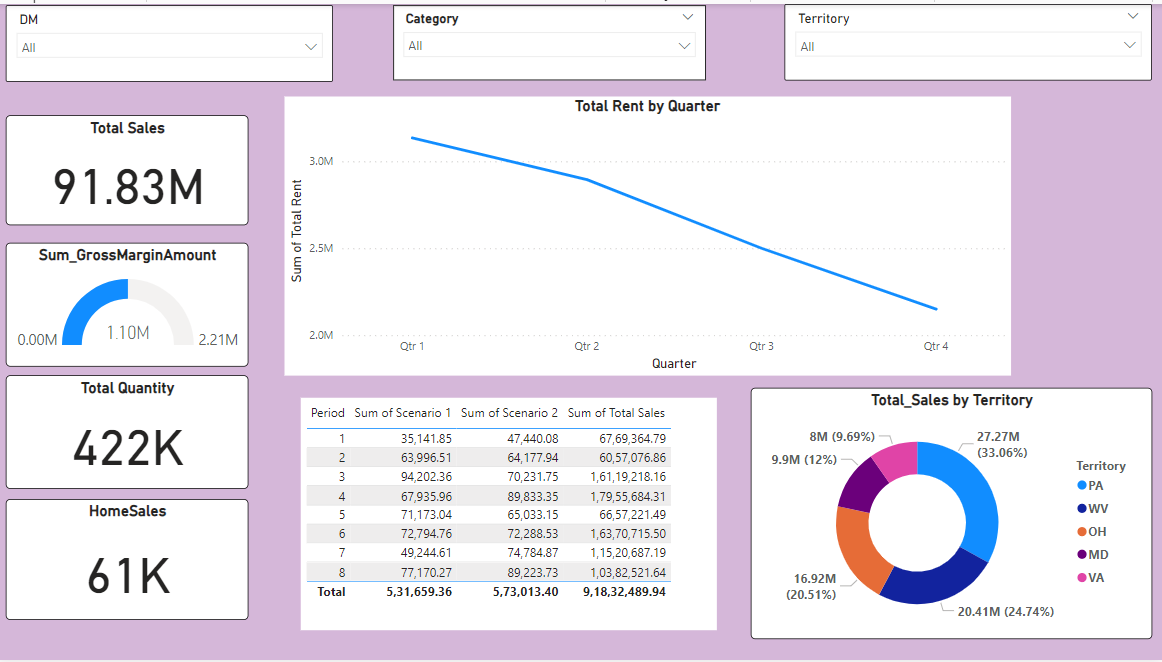

The page's visual inventory and layout, read from the dashboard file:
{"tool":"powerbi","page":{"name":"Page 1","canvas":[1280,720],"ordinal":0},"visuals":[{"type":"slicer","fields":{"Values":["Items.Category"]},"box":[435,1.4,343.1,82.3],"z":0},{"type":"slicer","fields":{"Values":["District.DM"]},"box":[9.6,1.4,359.5,83.7],"z":1000},{"type":"slicer","fields":{"Values":["Stores.Territory"]},"box":[864.5,0,403.4,83.7],"z":2000},{"type":"donutChart","title":"Total_Sales by Territory","fields":{"Category":["Stores.Territory"],"Y":["Sum(Sales.Total Sales)"]},"box":[827.4,421.3,440.5,275.8],"z":3000},{"type":"card","title":"Total Quantity","fields":{"Values":["Sum(Sales.Total Quantity)"]},"box":[9.6,407.5,266.2,124.9],"z":4000},{"type":"gauge","title":"Sum_GrossMarginAmount","fields":{"Y":["Sum(Sales.Sum_GrossMarginAmount)"]},"box":[9.6,262.1,266.2,135.8],"z":5000},{"type":"card","title":"Total Sales","fields":{"Values":["Sum(Sales.Total Sales)"]},"box":[9.6,122.1,266.2,120.8],"z":6000},{"type":"card","title":"HomeSales","fields":{"Values":["Sum(Sales.Total Quantity)"]},"box":[9.6,543.4,266.2,133.1],"z":7000},{"type":"lineChart","title":"Total Rent by Quarter","fields":{"Y":["Sum(Stores.Total Rent)"],"Category":["Stores.OpenDate.Variation.Date Hierarchy.Quarter"]},"box":[315.6,101.5,797.3,306],"z":8000},{"type":"tableEx","fields":{"Values":["Time.Period","Sum(Sales.TotalSalesScenario1)","Sum(Sales.Scenario 2)","Sum(Sales.Total Sales)"]},"box":[333.4,432.2,456.9,255.2],"z":9000}]}

Visuals, with their boxes in screenshot pixels (x1, y1, x2, y2), scaled from the page's 1280x720 canvas onto the 1162x662 screenshot:
slicer - Items.Category: (x1=395, y1=1, x2=706, y2=77)
slicer - District.DM: (x1=9, y1=1, x2=335, y2=78)
slicer - Stores.Territory: (x1=785, y1=0, x2=1151, y2=77)
"Total_Sales by Territory" donutChart: (x1=751, y1=387, x2=1151, y2=641)
"Total Quantity" card: (x1=9, y1=375, x2=250, y2=490)
"Sum_GrossMarginAmount" gauge: (x1=9, y1=241, x2=250, y2=366)
"Total Sales" card: (x1=9, y1=112, x2=250, y2=223)
"HomeSales" card: (x1=9, y1=500, x2=250, y2=622)
"Total Rent by Quarter" lineChart: (x1=287, y1=93, x2=1010, y2=375)
tableEx - Time.Period x Sum(Sales.TotalSalesScenario1): (x1=303, y1=397, x2=717, y2=632)
